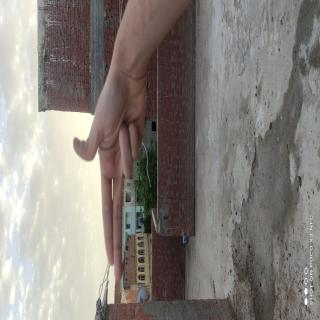GHAYN: (20, 155, 125, 320)
